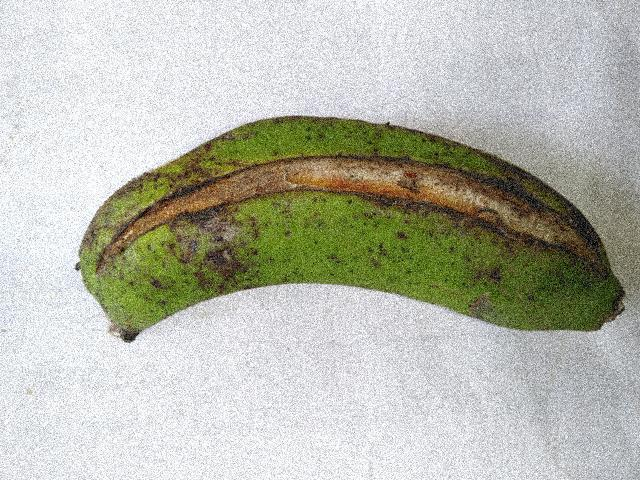rotten: (98, 127, 616, 296)
